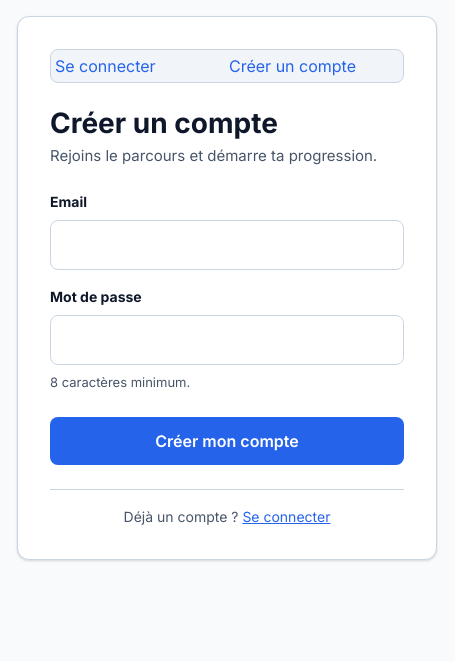
it: Page d'inscription › affiche une erreur et ne redirige pas quand la création échoue
Type "taken@example.com" into the field labelled "Email" at (227, 245), box [50,220,404,270]
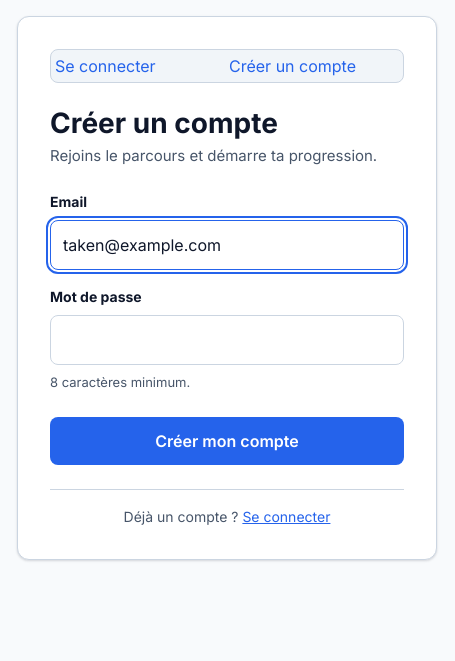
Type "password123" into the password field labelled "Mot de passe" at (227, 340), box [50,315,404,365]
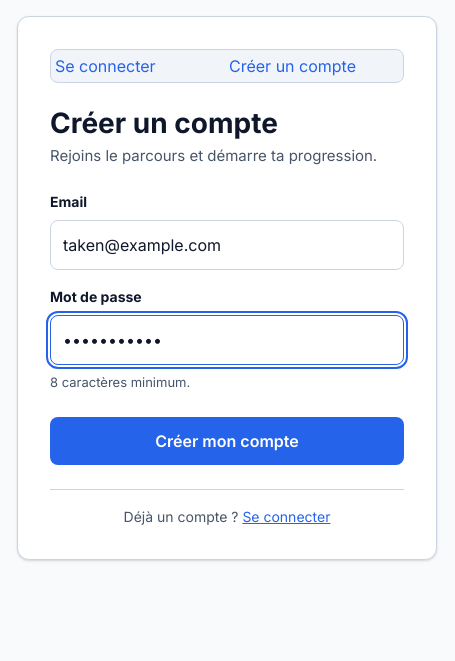
Click the button "Créer mon compte" at (227, 441), box [50,417,404,465]
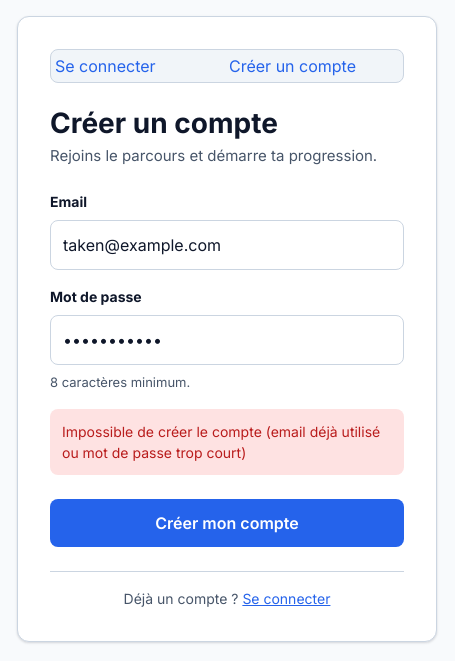
Now the message reads "Impossible de créer le compte (email déjà utilisé ou mot de passe trop court)", box [62,423,380,461]
